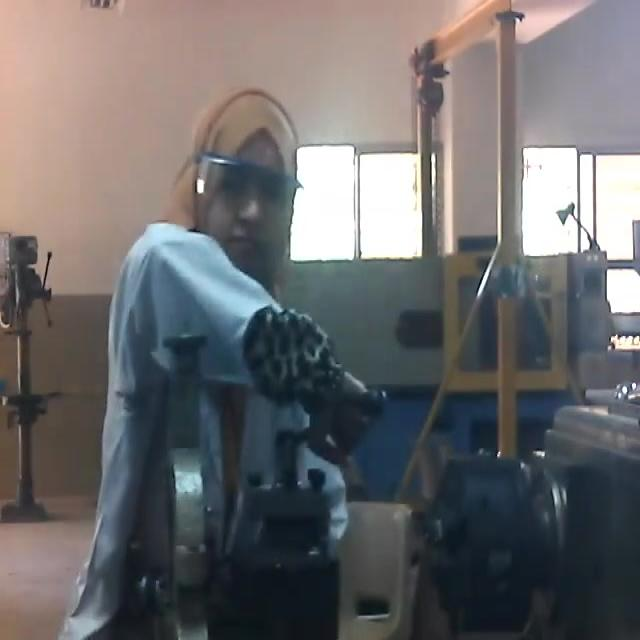googles: (194, 140, 300, 223)
labcoat: (56, 196, 352, 640)
